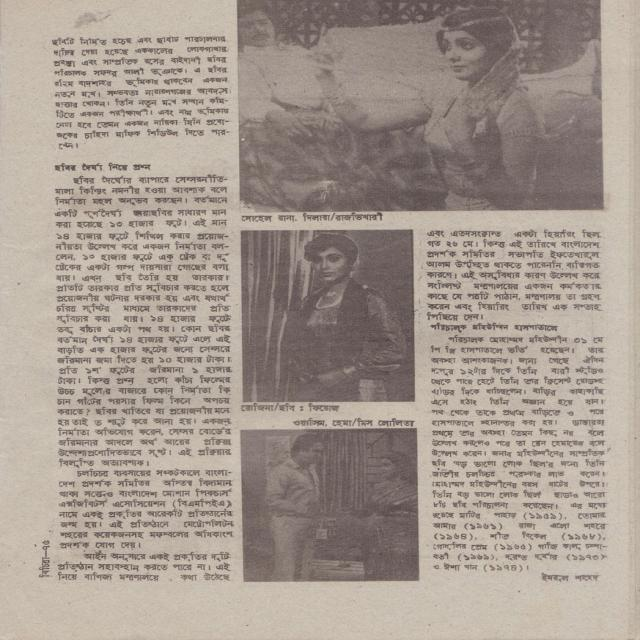caption: (241, 211, 384, 222), (293, 418, 414, 428), (241, 402, 339, 412)
image: (237, 0, 603, 212), (243, 230, 415, 401), (241, 429, 418, 581)
page number: (41, 539, 51, 551)
paragraph: (54, 173, 234, 468), (430, 334, 610, 573), (50, 35, 231, 151), (423, 230, 603, 321), (58, 466, 236, 550), (55, 551, 233, 581)
text: (541, 572, 600, 582), (39, 556, 51, 578)
title: (431, 322, 557, 332), (55, 162, 151, 171)
